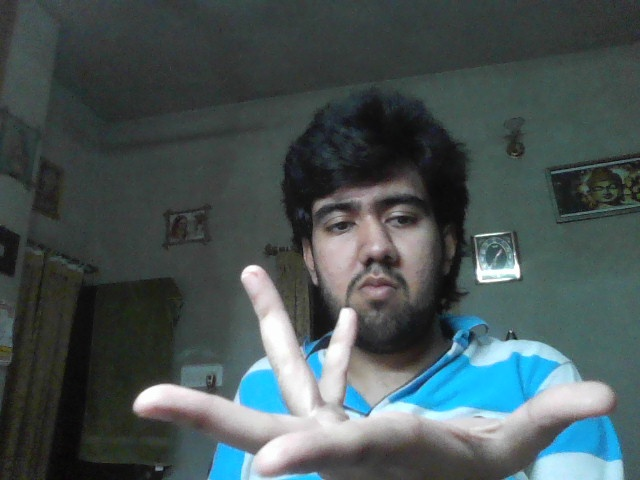What: (132, 264, 617, 480)
